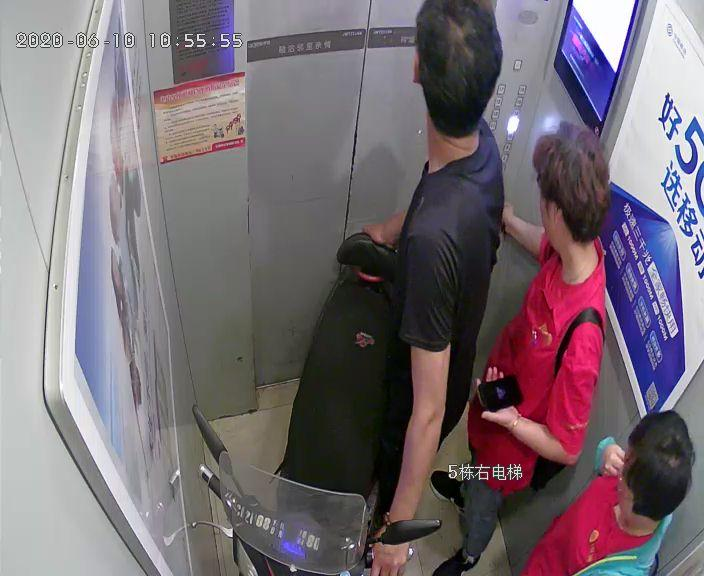Electric-bicycle: (192, 222, 438, 568)
